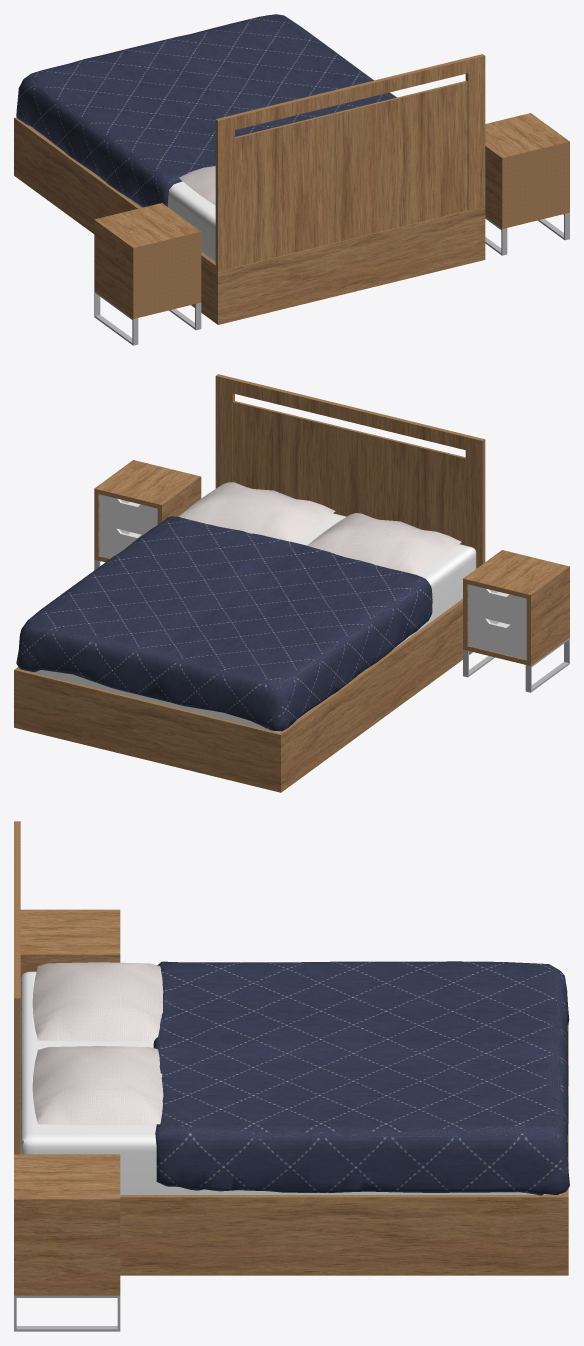
3 views of the same model, one above another, from view 1: azimuth 30°, elevation 25°; view 2: azimuth 150°, elevation 25°; view 3: azimuth 270°, elevation 25° (orthographic). The views are drawn at different scales.
Parts seen in each view (by area): view 1: ef1346ac-1426-4b5c-a1f0-62122c8c46bd_de50ff33-df0a-4516-aab3 (×2), ef1346ac-1426-4b5c-a1f0-62122c8c46bd_53ba7d5a-e07c-445f-8043, ef1346ac-1426-4b5c-a1f0-62122c8c46bd_a7af8239-d372-441a-a63d, ef1346ac-1426-4b5c-a1f0-62122c8c46bd_6bd19651-0b2c-4b92-8ecd, ef1346ac-1426-4b5c-a1f0-62122c8c46bd_aaa336a6-f102-4f7f-9fec, ef1346ac-1426-4b5c-a1f0-62122c8c46bd_f2d2802a-fad5-4c16-86c2, ef1346ac-1426-4b5c-a1f0-62122c8c46bd_3cd5b453-cdf2-409b-baaf, ef1346ac-1426-4b5c-a1f0-62122c8c46bd_d61ce951-e702-474a-8a62; view 2: ef1346ac-1426-4b5c-a1f0-62122c8c46bd_53ba7d5a-e07c-445f-8043, ef1346ac-1426-4b5c-a1f0-62122c8c46bd_de50ff33-df0a-4516-aab3 (×2), ef1346ac-1426-4b5c-a1f0-62122c8c46bd_a7af8239-d372-441a-a63d, ef1346ac-1426-4b5c-a1f0-62122c8c46bd_3cd5b453-cdf2-409b-baaf (×2), ef1346ac-1426-4b5c-a1f0-62122c8c46bd_6bd19651-0b2c-4b92-8ecd, ef1346ac-1426-4b5c-a1f0-62122c8c46bd_aaa336a6-f102-4f7f-9fec, ef1346ac-1426-4b5c-a1f0-62122c8c46bd_f2d2802a-fad5-4c16-86c2, ef1346ac-1426-4b5c-a1f0-62122c8c46bd_820fcbee-145a-4559-be0d, ef1346ac-1426-4b5c-a1f0-62122c8c46bd_4519b01b-b5e9-46fb-8c19, ef1346ac-1426-4b5c-a1f0-62122c8c46bd_fc0bb2cb-e030-49f9-ae3d, ef1346ac-1426-4b5c-a1f0-62122c8c46bd_d04ea9ae-1c1c-4dea-a9a2, ef1346ac-1426-4b5c-a1f0-62122c8c46bd_d61ce951-e702-474a-8a62; view 3: ef1346ac-1426-4b5c-a1f0-62122c8c46bd_53ba7d5a-e07c-445f-8043, ef1346ac-1426-4b5c-a1f0-62122c8c46bd_a7af8239-d372-441a-a63d, ef1346ac-1426-4b5c-a1f0-62122c8c46bd_3cd5b453-cdf2-409b-baaf (×2), ef1346ac-1426-4b5c-a1f0-62122c8c46bd_aaa336a6-f102-4f7f-9fec, ef1346ac-1426-4b5c-a1f0-62122c8c46bd_f2d2802a-fad5-4c16-86c2, ef1346ac-1426-4b5c-a1f0-62122c8c46bd_6bd19651-0b2c-4b92-8ecd, ef1346ac-1426-4b5c-a1f0-62122c8c46bd_de50ff33-df0a-4516-aab3, ef1346ac-1426-4b5c-a1f0-62122c8c46bd_f393d57f-875d-4af8-8576.
Part boxes in pixels (left/top/right/bottom): ef1346ac-1426-4b5c-a1f0-62122c8c46bd_de50ff33-df0a-4516-aab3 (×2): left=215, top=54, right=485, bottom=271; ef1346ac-1426-4b5c-a1f0-62122c8c46bd_53ba7d5a-e07c-445f-8043: left=16, top=14, right=396, bottom=207; ef1346ac-1426-4b5c-a1f0-62122c8c46bd_a7af8239-d372-441a-a63d: left=14, top=117, right=485, bottom=324; ef1346ac-1426-4b5c-a1f0-62122c8c46bd_6bd19651-0b2c-4b92-8ecd: left=94, top=203, right=201, bottom=318; ef1346ac-1426-4b5c-a1f0-62122c8c46bd_aaa336a6-f102-4f7f-9fec: left=485, top=113, right=569, bottom=228; ef1346ac-1426-4b5c-a1f0-62122c8c46bd_f2d2802a-fad5-4c16-86c2: left=31, top=127, right=215, bottom=261; ef1346ac-1426-4b5c-a1f0-62122c8c46bd_3cd5b453-cdf2-409b-baaf: left=179, top=166, right=215, bottom=205; ef1346ac-1426-4b5c-a1f0-62122c8c46bd_d61ce951-e702-474a-8a62: left=94, top=291, right=138, bottom=345; ef1346ac-1426-4b5c-a1f0-62122c8c46bd_53ba7d5a-e07c-445f-8043: left=16, top=516, right=432, bottom=731; ef1346ac-1426-4b5c-a1f0-62122c8c46bd_de50ff33-df0a-4516-aab3 (×2): left=215, top=374, right=485, bottom=568; ef1346ac-1426-4b5c-a1f0-62122c8c46bd_a7af8239-d372-441a-a63d: left=14, top=599, right=472, bottom=792; ef1346ac-1426-4b5c-a1f0-62122c8c46bd_3cd5b453-cdf2-409b-baaf (×2): left=179, top=482, right=461, bottom=574; ef1346ac-1426-4b5c-a1f0-62122c8c46bd_6bd19651-0b2c-4b92-8ecd: left=463, top=550, right=569, bottom=665; ef1346ac-1426-4b5c-a1f0-62122c8c46bd_aaa336a6-f102-4f7f-9fec: left=94, top=460, right=201, bottom=562; ef1346ac-1426-4b5c-a1f0-62122c8c46bd_f2d2802a-fad5-4c16-86c2: left=23, top=513, right=476, bottom=732; ef1346ac-1426-4b5c-a1f0-62122c8c46bd_820fcbee-145a-4559-be0d: left=468, top=614, right=526, bottom=659; ef1346ac-1426-4b5c-a1f0-62122c8c46bd_4519b01b-b5e9-46fb-8c19: left=468, top=584, right=526, bottom=628; ef1346ac-1426-4b5c-a1f0-62122c8c46bd_fc0bb2cb-e030-49f9-ae3d: left=99, top=494, right=157, bottom=534; ef1346ac-1426-4b5c-a1f0-62122c8c46bd_d04ea9ae-1c1c-4dea-a9a2: left=99, top=524, right=142, bottom=558; ef1346ac-1426-4b5c-a1f0-62122c8c46bd_d61ce951-e702-474a-8a62: left=525, top=638, right=569, bottom=692; ef1346ac-1426-4b5c-a1f0-62122c8c46bd_53ba7d5a-e07c-445f-8043: left=153, top=961, right=569, bottom=1195; ef1346ac-1426-4b5c-a1f0-62122c8c46bd_a7af8239-d372-441a-a63d: left=120, top=1024, right=568, bottom=1275; ef1346ac-1426-4b5c-a1f0-62122c8c46bd_3cd5b453-cdf2-409b-baaf (×2): left=32, top=962, right=163, bottom=1125; ef1346ac-1426-4b5c-a1f0-62122c8c46bd_aaa336a6-f102-4f7f-9fec: left=14, top=1154, right=120, bottom=1295; ef1346ac-1426-4b5c-a1f0-62122c8c46bd_f2d2802a-fad5-4c16-86c2: left=20, top=971, right=561, bottom=1194; ef1346ac-1426-4b5c-a1f0-62122c8c46bd_6bd19651-0b2c-4b92-8ecd: left=20, top=909, right=120, bottom=979; ef1346ac-1426-4b5c-a1f0-62122c8c46bd_de50ff33-df0a-4516-aab3: left=14, top=821, right=20, bottom=1154; ef1346ac-1426-4b5c-a1f0-62122c8c46bd_f393d57f-875d-4af8-8576: left=14, top=1295, right=120, bottom=1331.
Bounding box in the file's own units: 101 × 82.28 × 45.28.
Materials: 6 (3 with a texture image).
